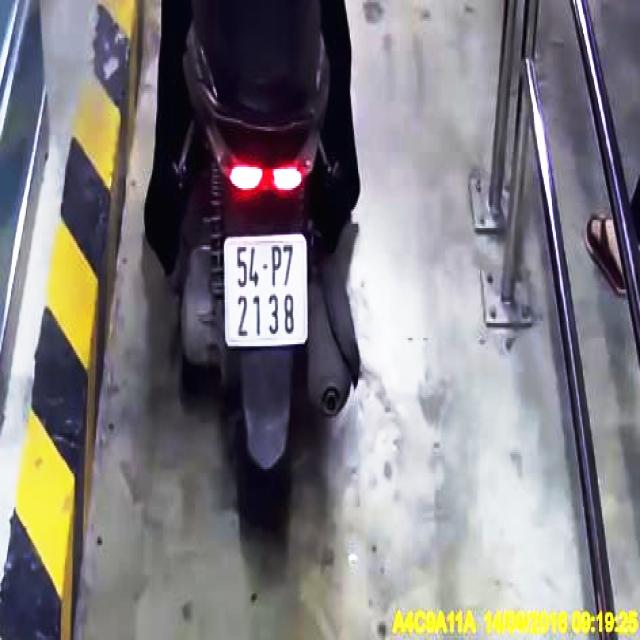license_plate: (226, 236, 307, 347)
